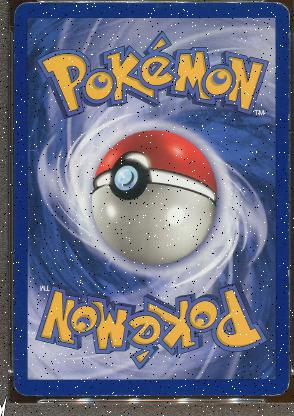Card: (11, 2, 291, 396)
Corner Wear: (258, 380, 289, 396), (12, 382, 44, 396), (273, 0, 290, 18)
Edge Wear: (286, 181, 289, 239), (286, 268, 288, 350), (73, 394, 154, 396), (286, 26, 289, 54), (286, 108, 288, 132), (287, 150, 288, 172)
Scratch: (28, 142, 41, 156), (16, 374, 25, 384), (40, 127, 48, 133), (18, 154, 26, 160), (13, 357, 19, 361), (17, 137, 22, 141), (20, 114, 28, 116)
